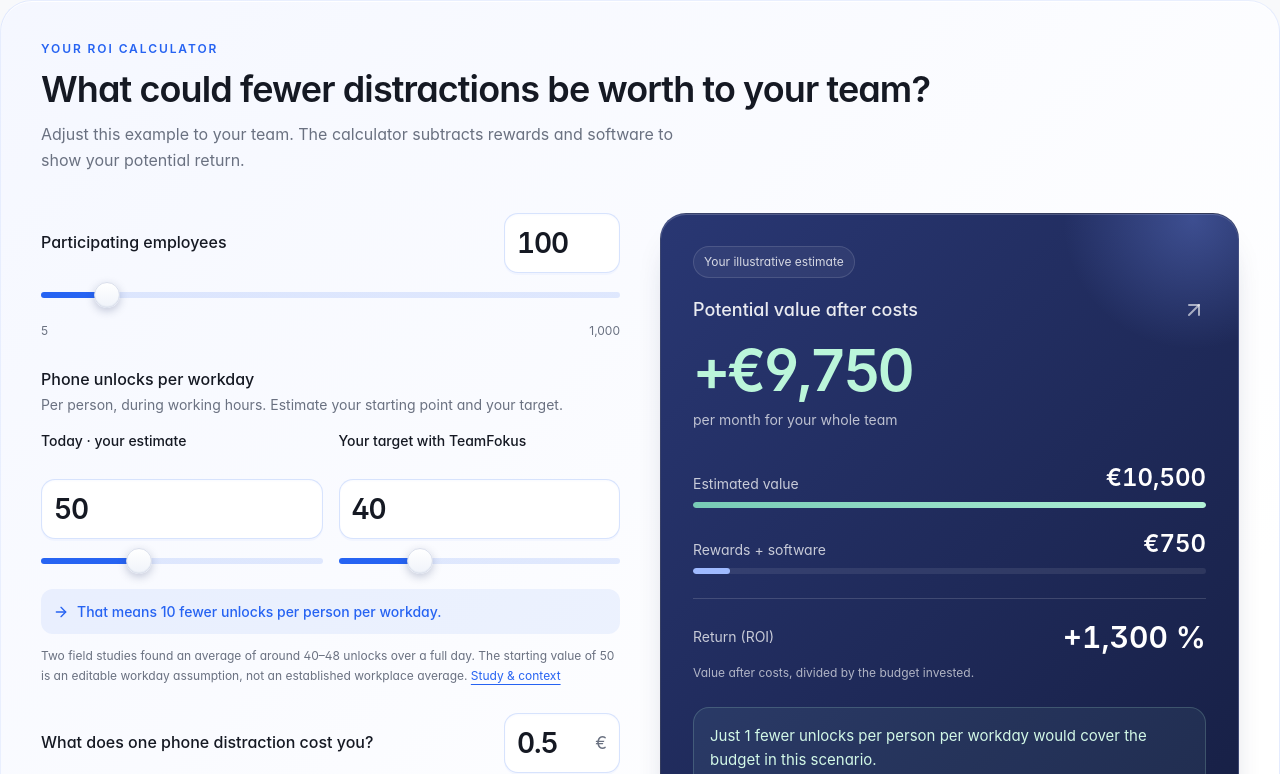
it: ROI calculator interactions › still shows a loss and unattainable break-even for an already low baseline
Step 1. Replace the text in the number field labelled "Today · your estimate" with "2" → (182, 509), box [54,488,310,530]
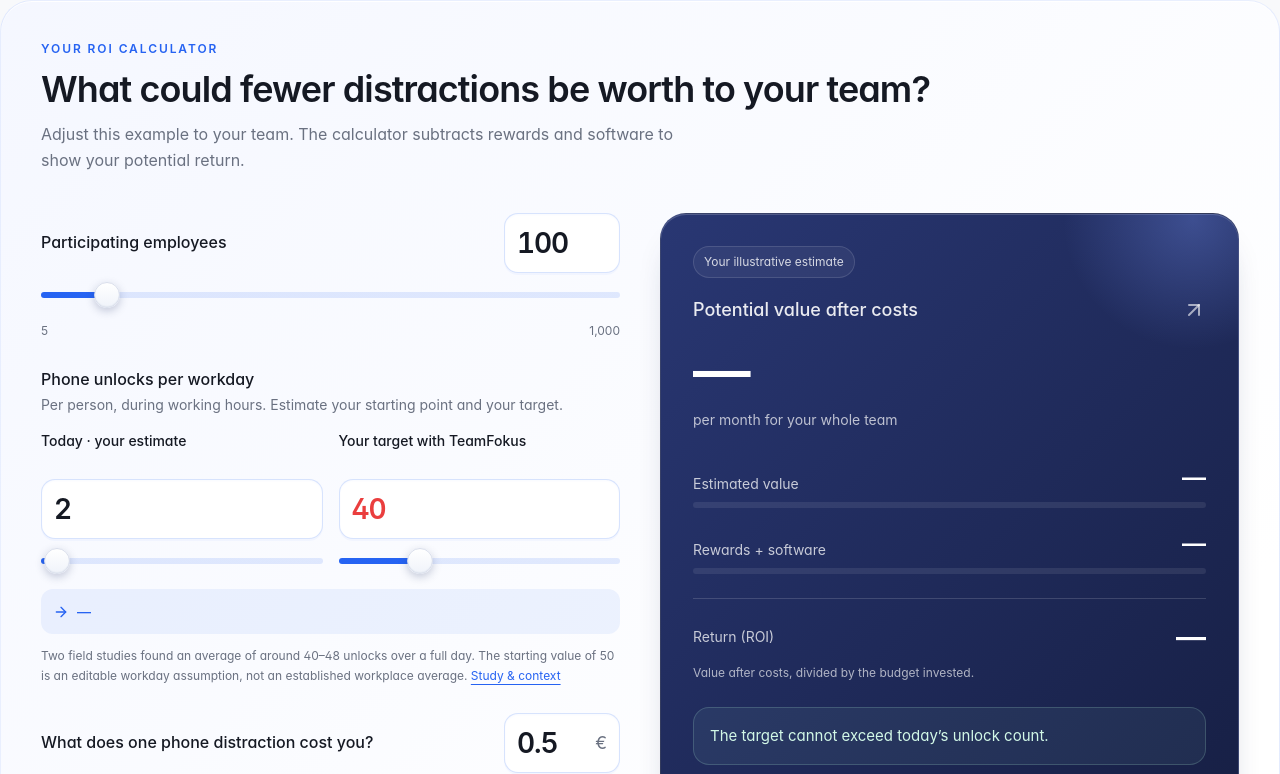
Step 2. Replace the text in the number field labelled "Your target with TeamFokus" with "0" → (479, 509), box [352,488,607,530]
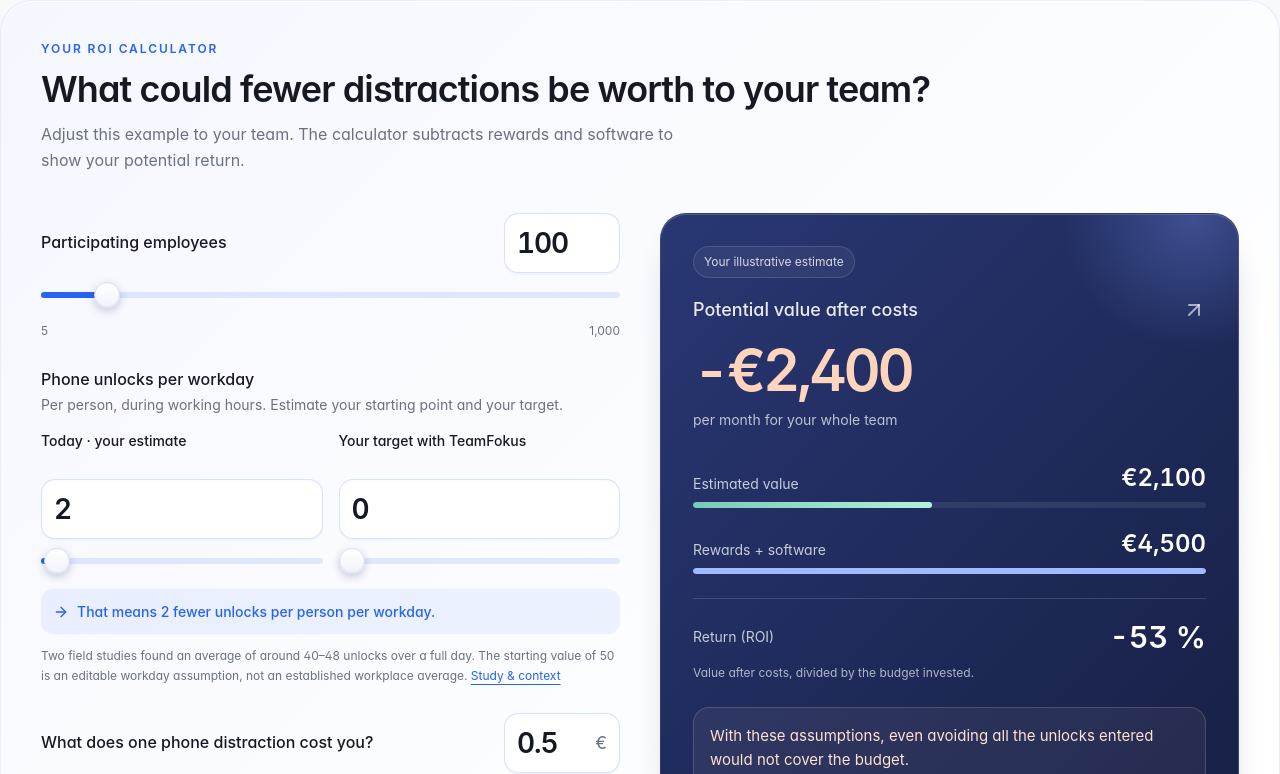
expect the element with test id "roi-net" shows "-€2,400": met, box [693,335,912,405]
expect the text with test id "roi-break-even" shows "even avoiding all the unlocks": met, box [710,726,1154,769]
